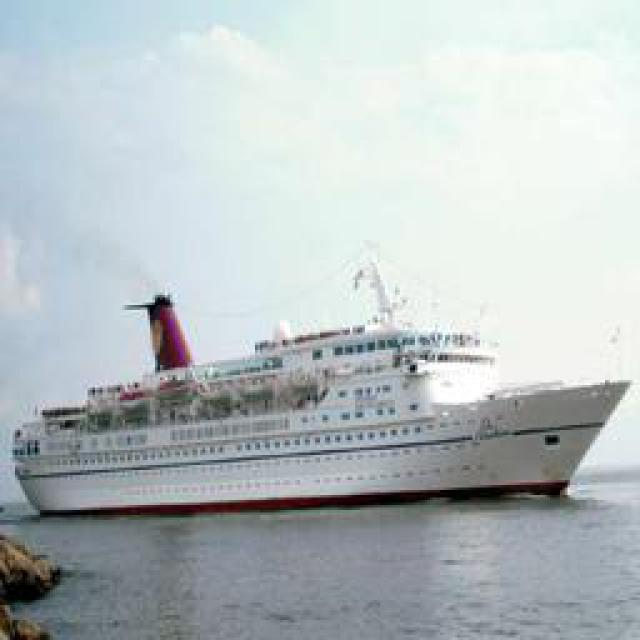Ship: (7, 304, 635, 514)
